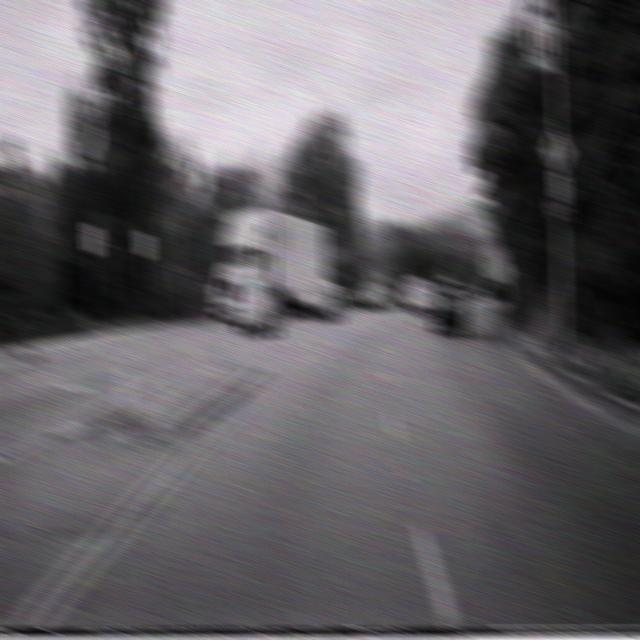pedestrianCrossing: (542, 125, 572, 175)
